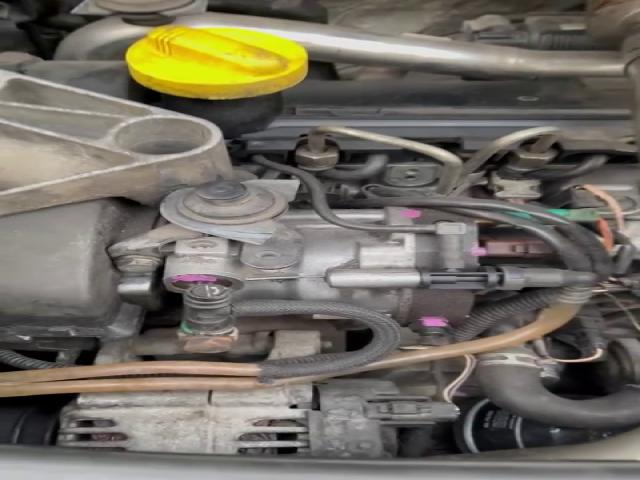alternator: (57, 383, 314, 454)
high_pressure_pump: (161, 207, 495, 337)
